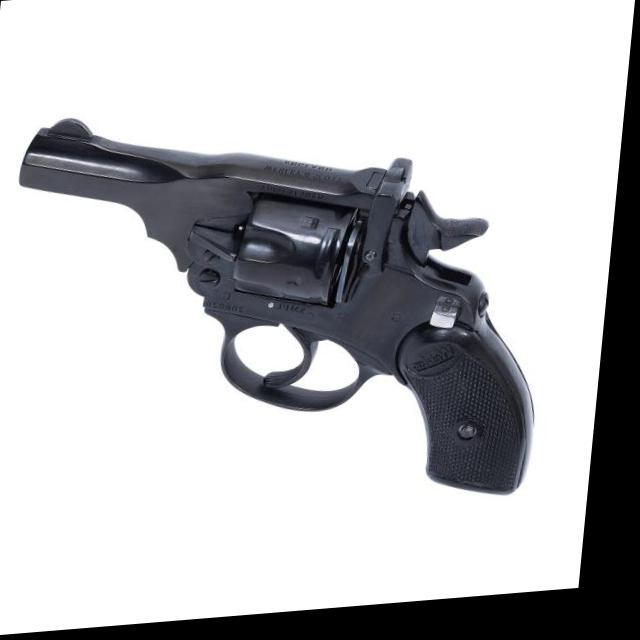handgun: (0, 84, 568, 540)
